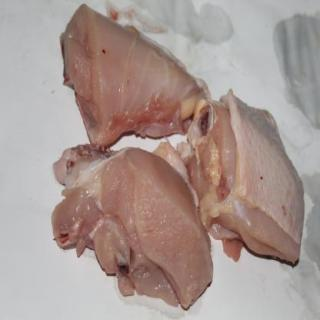Ayam: (51, 141, 216, 312), (175, 87, 306, 266), (63, 4, 214, 151)
